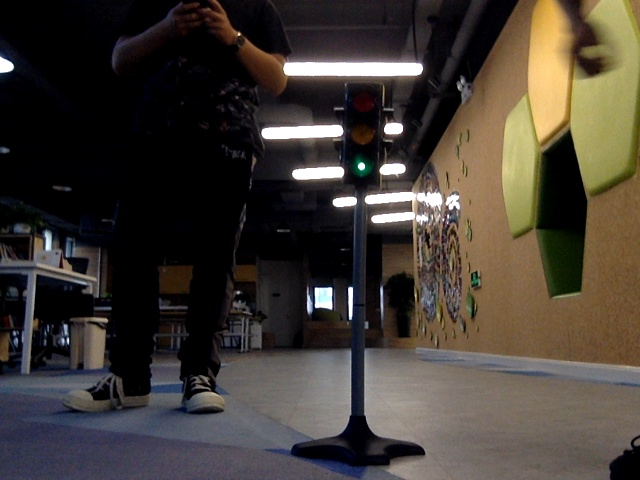green: (345, 85, 379, 180)
